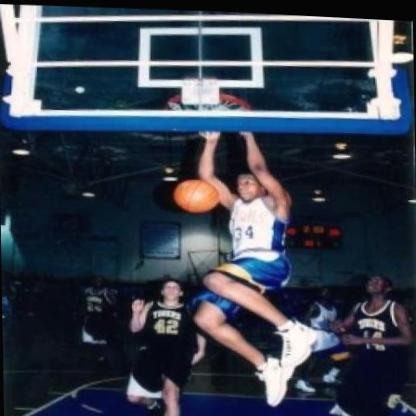basketball: (173, 170, 222, 214)
